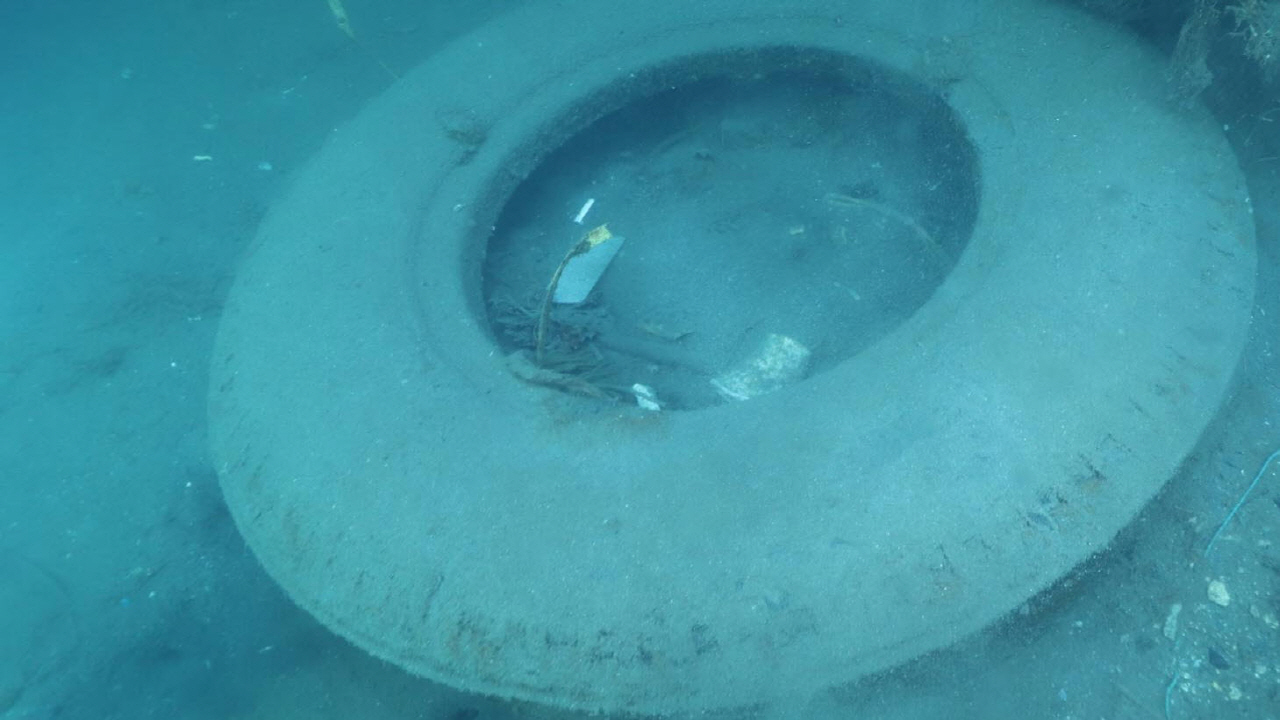tire: (207, 0, 1259, 712)
